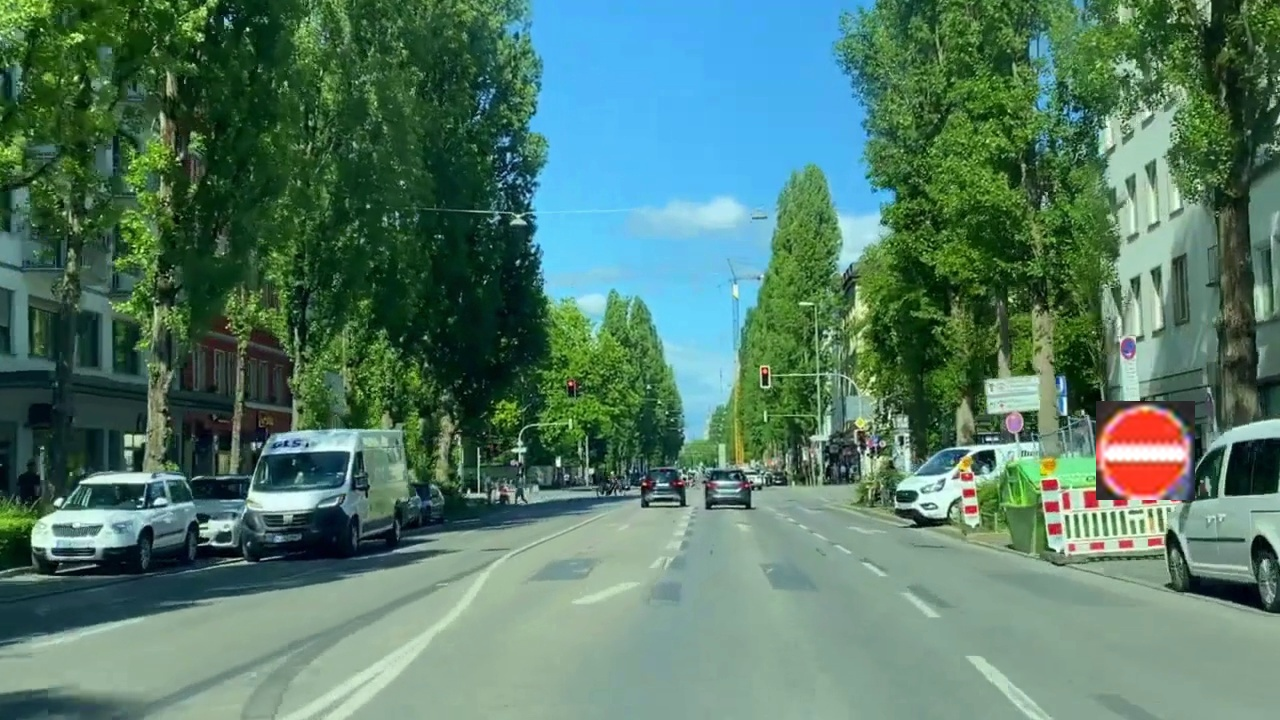No entry: (1096, 401, 1195, 500)
